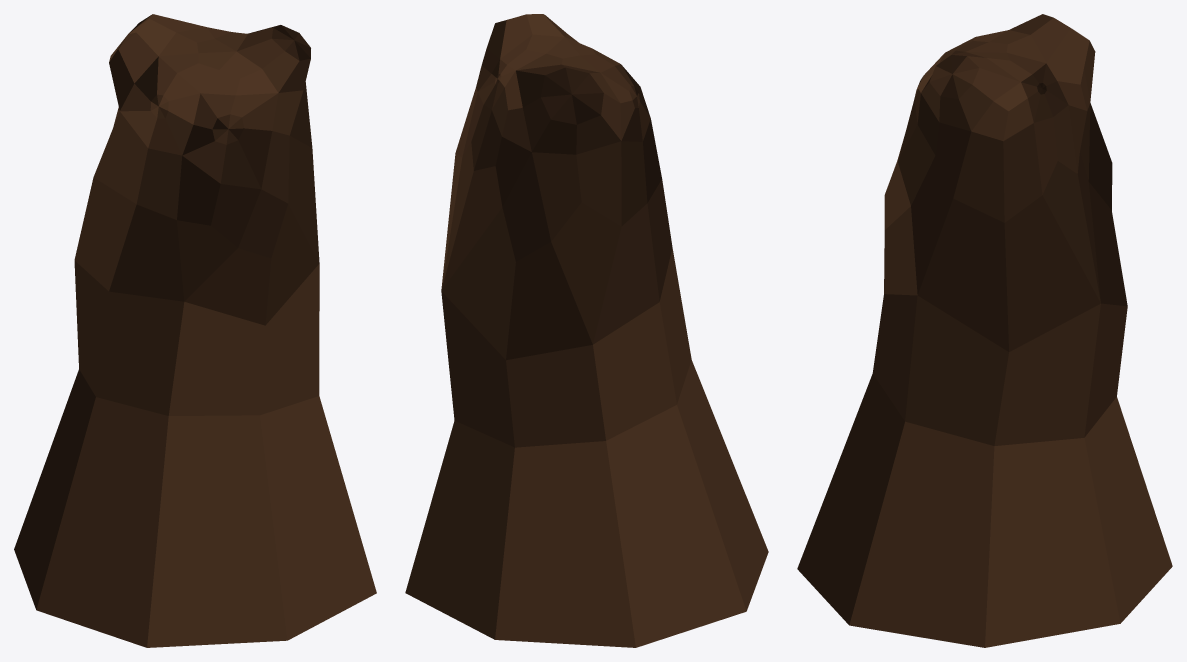
The model's file is Sprout.fbx.
3 renders of one model, left to right at view 1: azimuth 30°, elevation 25°; view 2: azimuth 150°, elevation 25°; view 3: azimuth 270°, elevation 25°, orthographic. The views are drawn at different scales.
Visible parts, largest first — view 1: Tree; view 2: Tree; view 3: Tree.
Part boxes in pixels (x1,y1,x2,y2): Tree: [14, 14, 376, 647]; Tree: [405, 14, 768, 647]; Tree: [797, 14, 1172, 647].
Size of the model in its own units: 32.68 by 52.51 by 32.67.
